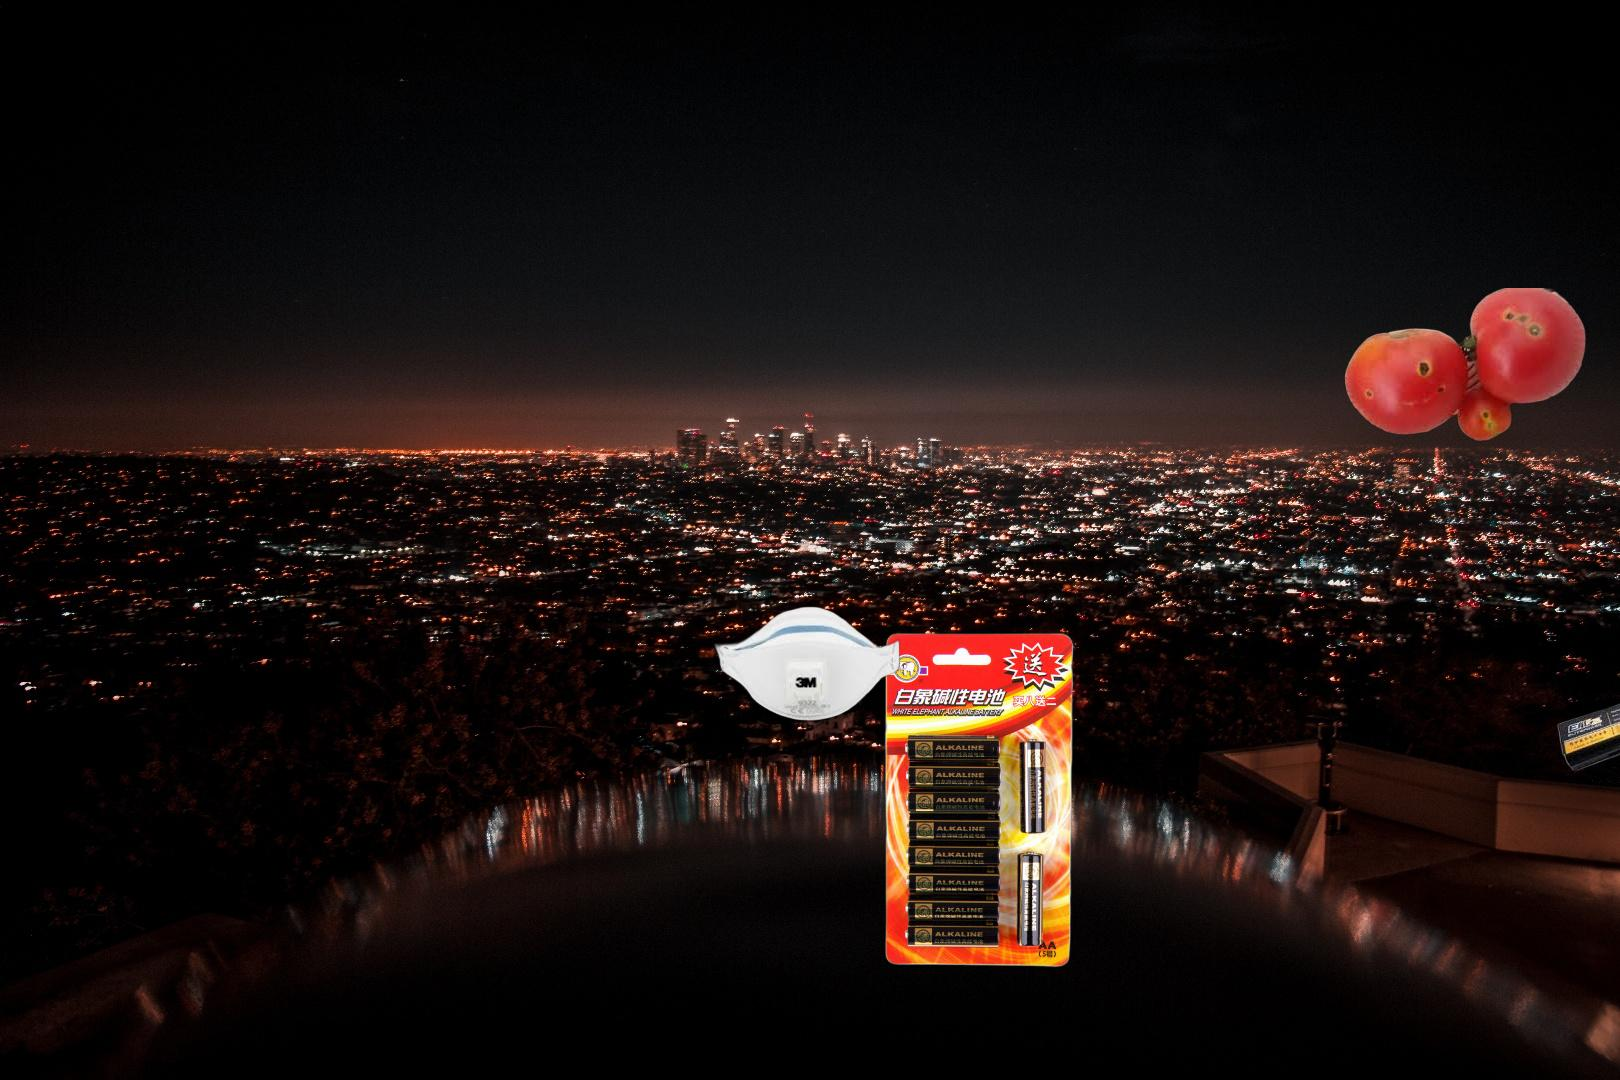battery: (881, 630, 1078, 970), (1428, 645, 1620, 775)
biological: (1343, 288, 1589, 444)
trash: (711, 604, 902, 724)
